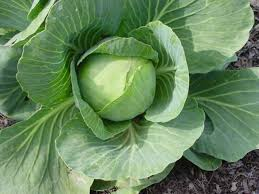cabbage: (81, 46, 160, 124)
